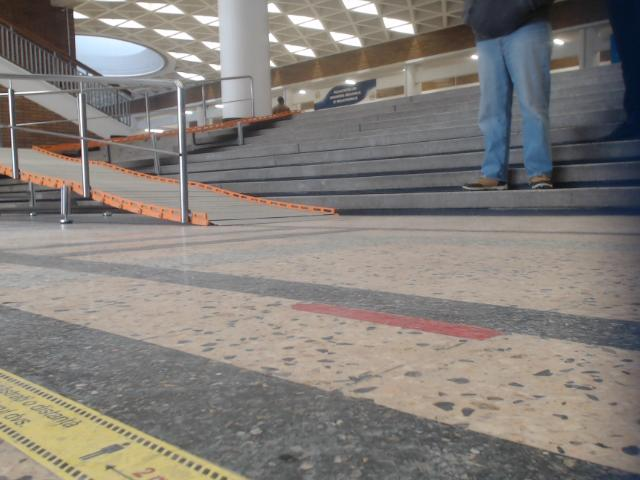rampUp: (189, 182, 327, 224), (91, 162, 180, 221), (21, 149, 81, 193), (0, 148, 10, 174)
ramps-railing: (32, 74, 190, 222), (11, 126, 173, 152), (0, 85, 29, 178)
